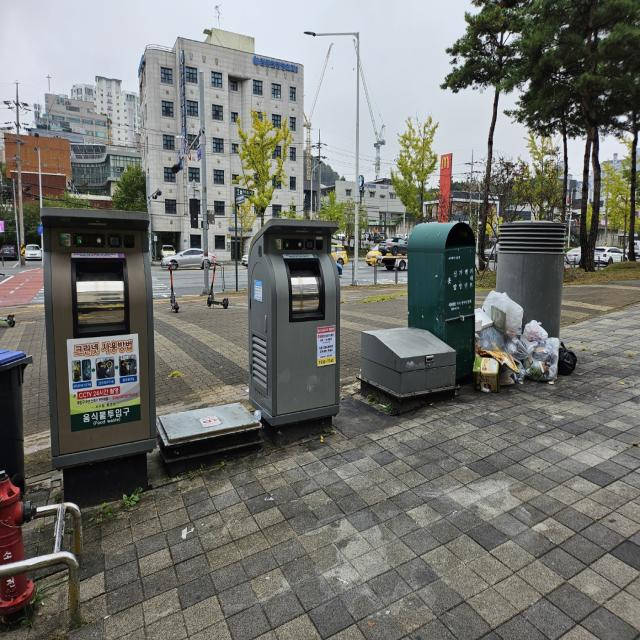CleanNet: (35, 197, 164, 506), (244, 210, 346, 452)
General Waste: (468, 284, 568, 404)
